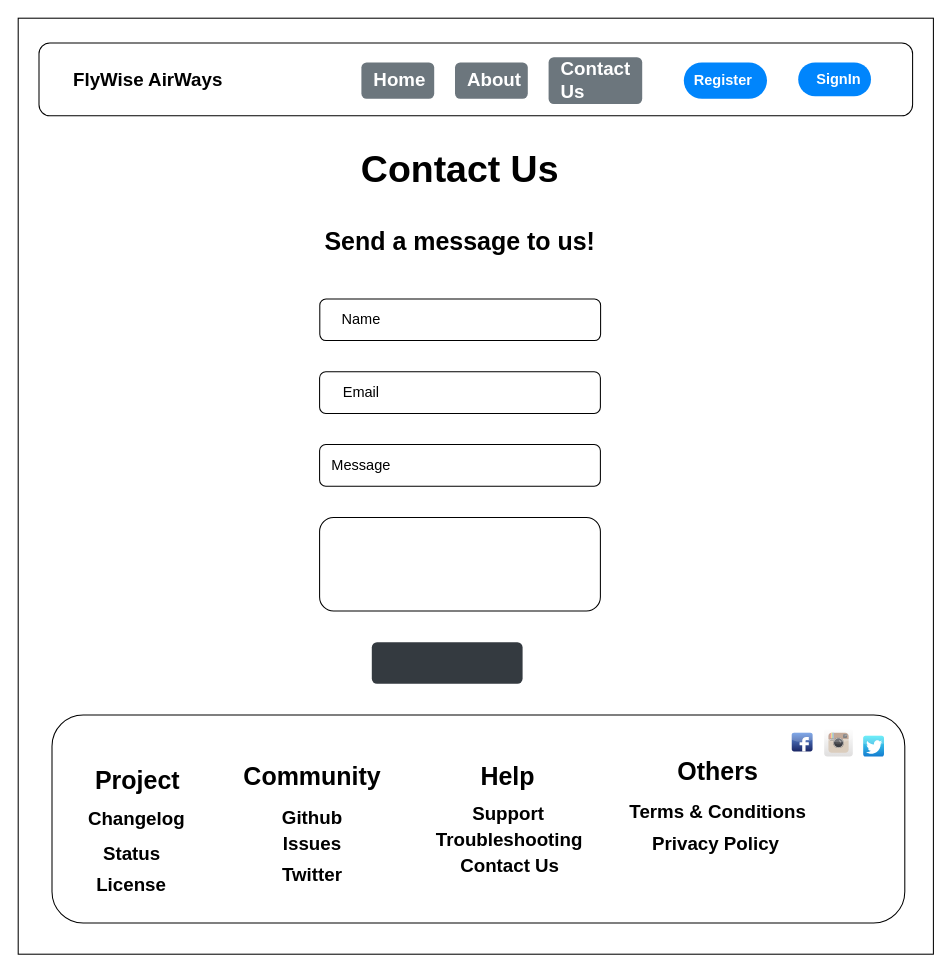
Some shapes in this 952 by 972 pixel diagram are drawn without their labels. The shapes that lost their labels are listed below. From the top down, each one's box as (x1, y1, x2, y2) in pixels, then its label:
(319, 516, 600, 611): Write your message here
(371, 642, 522, 683): Send Message
